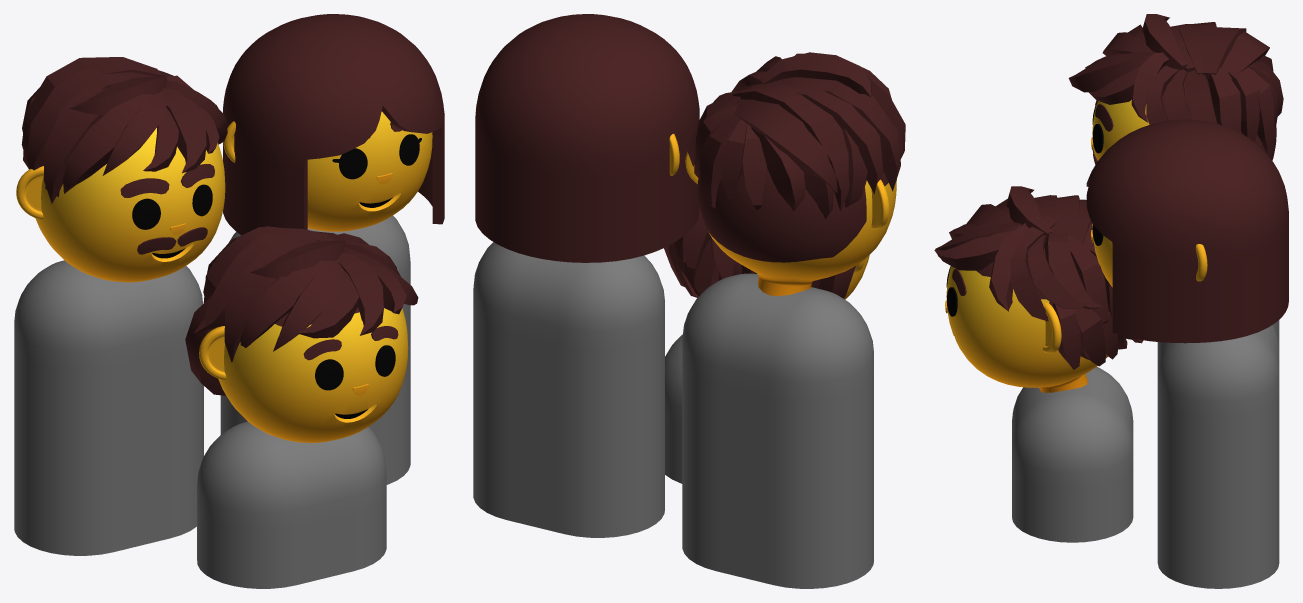
The model's file is family_man_woman_boy.glb.
The picture shows the model from 3 angles, left to right: view 1: azimuth 30°, elevation 25°; view 2: azimuth 150°, elevation 25°; view 3: azimuth 270°, elevation 25°; orthographic projection. The views are drawn at different scales.
Parts seen in each view (by area): view 1: Sphere.277, Roundcube.334, Sphere.276, Cube.4156, Cube.4188, Roundcube.331, Roundcube.332, Roundcube.333, Sphere.278, Circle.1462, Circle.1459, Circle.1466 (+5 smaller); view 2: Sphere.277, Sphere.278, Roundcube.334, Cube.4188, Roundcube.332, Cube.4156, Sphere.276, Cylinder.272; view 3: Roundcube.334, Sphere.278, Sphere.276, Cube.4156, Cube.4188, Roundcube.331, Roundcube.332, Cylinder.271, Roundcube.333.
Boxes of the visible parts, bbox=[...] form: Sphere.277: bbox=[14, 260, 203, 555]; Roundcube.334: bbox=[223, 14, 444, 235]; Sphere.276: bbox=[197, 421, 386, 588]; Cube.4156: bbox=[185, 226, 418, 395]; Cube.4188: bbox=[21, 57, 227, 203]; Roundcube.331: bbox=[218, 307, 408, 442]; Roundcube.332: bbox=[35, 128, 225, 282]; Roundcube.333: bbox=[307, 111, 432, 231]; Sphere.278: bbox=[220, 215, 410, 484]; Circle.1462: bbox=[132, 184, 212, 229]; Circle.1459: bbox=[315, 345, 395, 390]; Circle.1466: bbox=[339, 134, 419, 179]; Sphere.277: bbox=[682, 273, 873, 588]; Sphere.278: bbox=[473, 242, 664, 537]; Roundcube.334: bbox=[475, 14, 699, 262]; Cube.4188: bbox=[687, 52, 905, 219]; Roundcube.332: bbox=[698, 168, 896, 296]; Cube.4156: bbox=[664, 206, 855, 298]; Sphere.276: bbox=[665, 334, 682, 483]; Cylinder.272: bbox=[685, 151, 889, 229]; Roundcube.334: bbox=[1086, 119, 1288, 343]; Sphere.278: bbox=[1157, 324, 1279, 588]; Sphere.276: bbox=[1012, 367, 1133, 542]; Cube.4156: bbox=[934, 186, 1143, 369]; Cube.4188: bbox=[1068, 14, 1283, 151]; Roundcube.331: bbox=[946, 247, 1107, 392]; Roundcube.332: bbox=[1092, 66, 1276, 160]; Cylinder.271: bbox=[1042, 303, 1061, 353]; Roundcube.333: bbox=[1092, 224, 1112, 287].
Size of the model in its own units: 2.35 by 2.58 by 1.93.
Materials: 1 (1 with a texture image).
